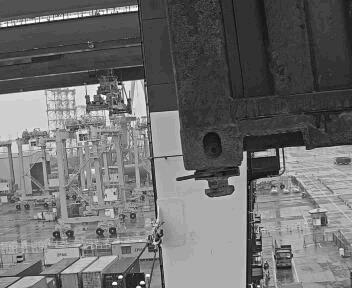twist_lock_1: (160, 166, 216, 205)
